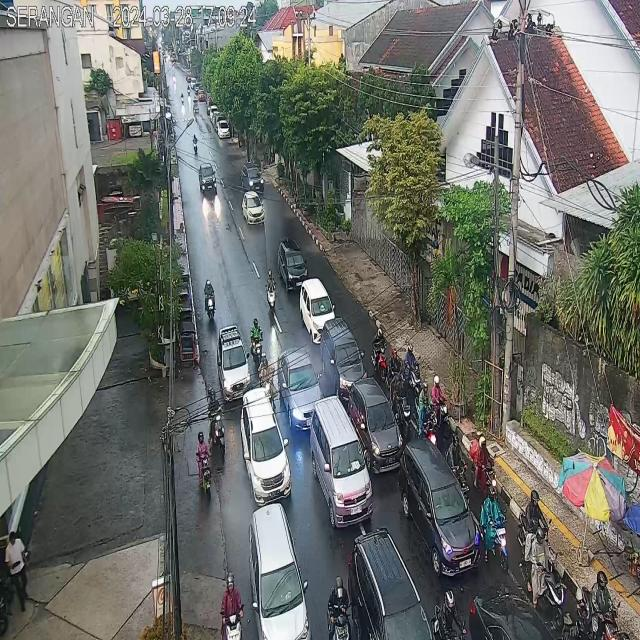car: (399, 436, 481, 578), (349, 527, 433, 640), (247, 502, 312, 640), (310, 396, 373, 526), (240, 386, 292, 506), (340, 378, 404, 468), (470, 581, 554, 640), (278, 347, 323, 432), (318, 318, 362, 382), (218, 323, 252, 402), (298, 277, 336, 339), (278, 238, 307, 294), (242, 191, 264, 226), (240, 162, 264, 192)
motorcycle: (520, 518, 565, 632), (576, 571, 620, 640), (478, 487, 508, 573), (518, 490, 552, 552), (444, 431, 470, 510), (470, 428, 498, 501), (431, 589, 467, 640), (219, 570, 245, 640), (326, 574, 352, 640), (207, 386, 225, 459), (430, 375, 450, 439), (390, 375, 410, 438), (258, 352, 278, 412), (415, 397, 437, 450), (196, 432, 212, 504), (414, 383, 436, 429), (370, 328, 388, 381), (403, 344, 421, 396), (386, 348, 403, 391), (250, 318, 263, 370), (265, 269, 277, 316), (204, 279, 216, 325), (192, 134, 198, 154)
